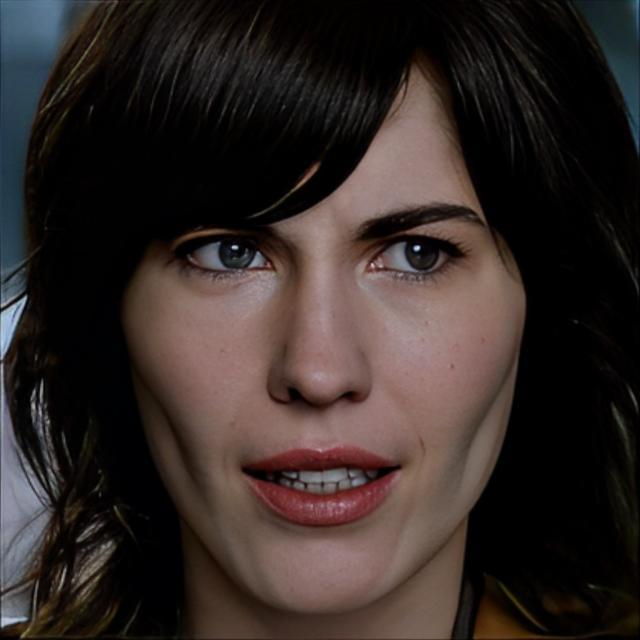disgust: (115, 41, 532, 617)
